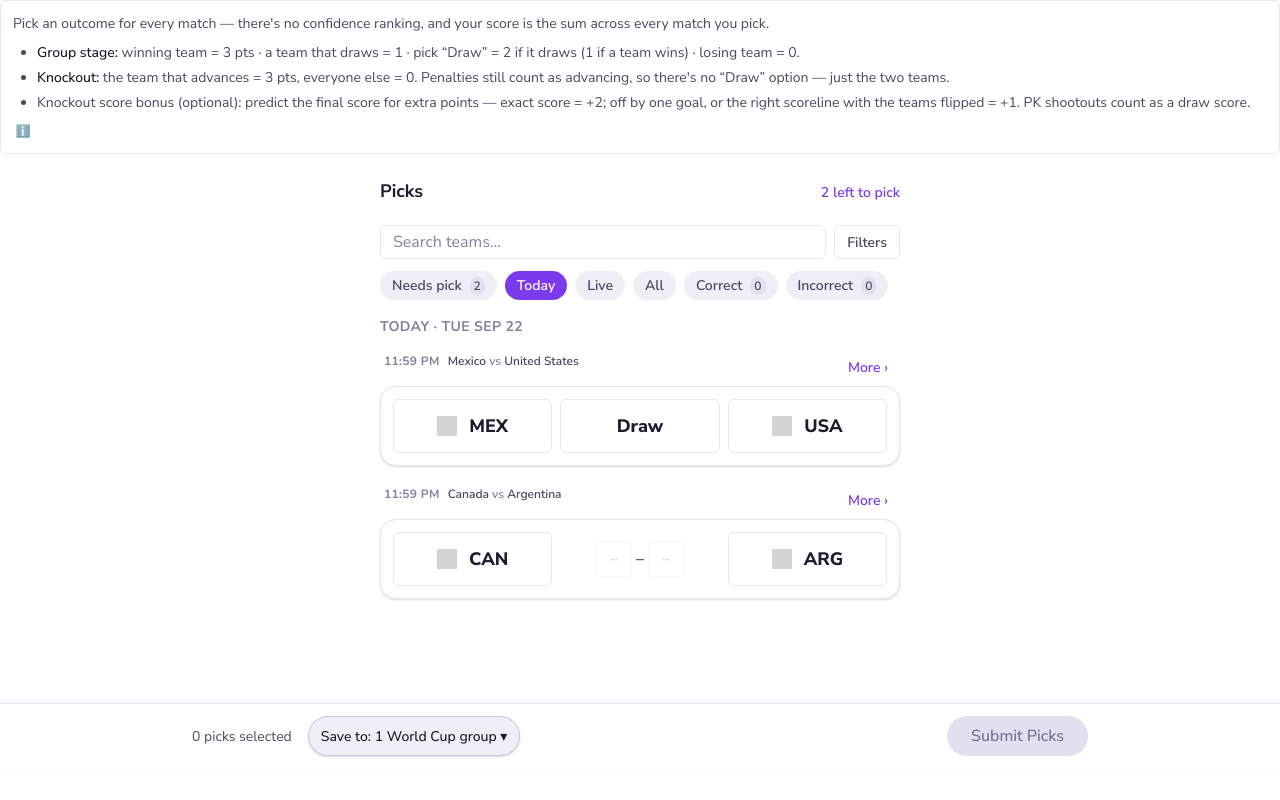
Test: WorldCupPicksTab › reports partial failure when some fan-out submits reject
The width and height of the screenshot is (1280, 800).
Expected: the element showing "Mexico vs United States" is shown, [448, 353, 579, 369]
Click the button "MEX" at (473, 426), box [393, 399, 552, 453]
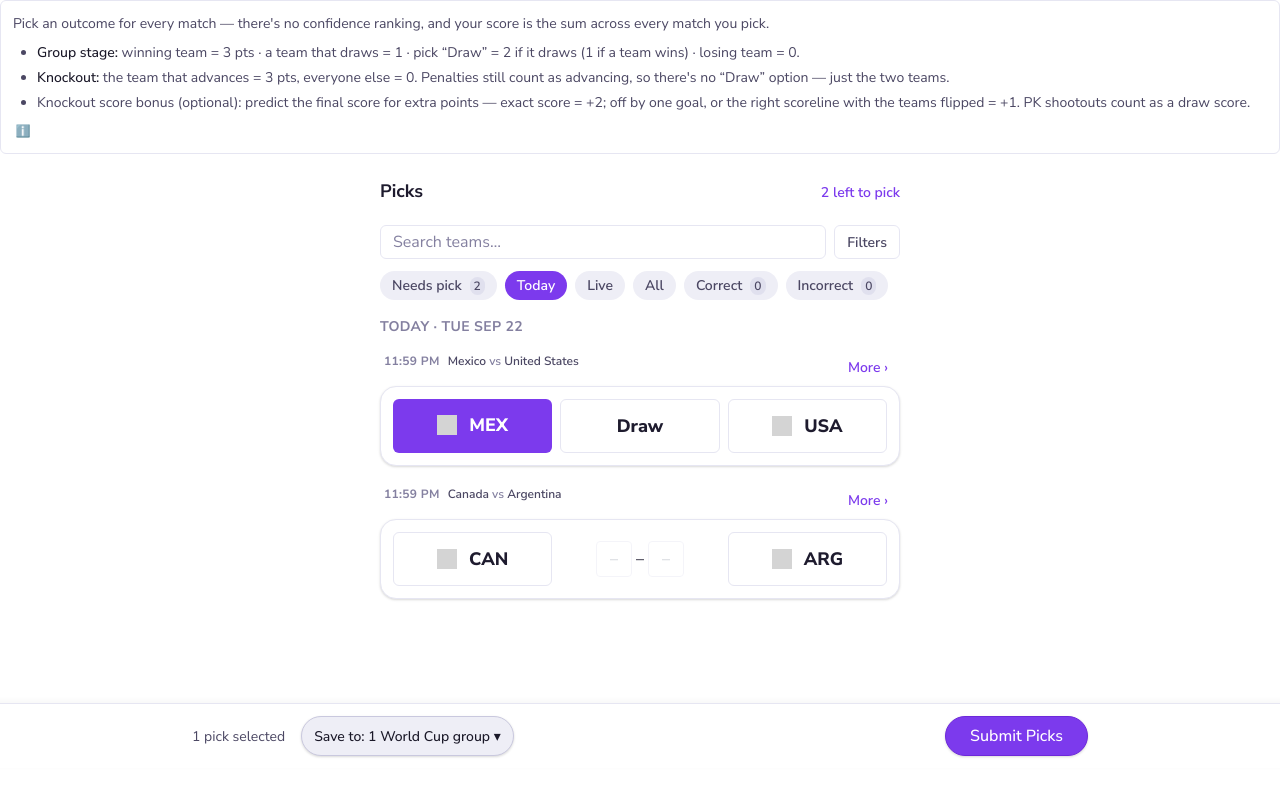
Click the button with aria-label "Choose groups to save picks to" at (407, 736), box [301, 716, 514, 756]
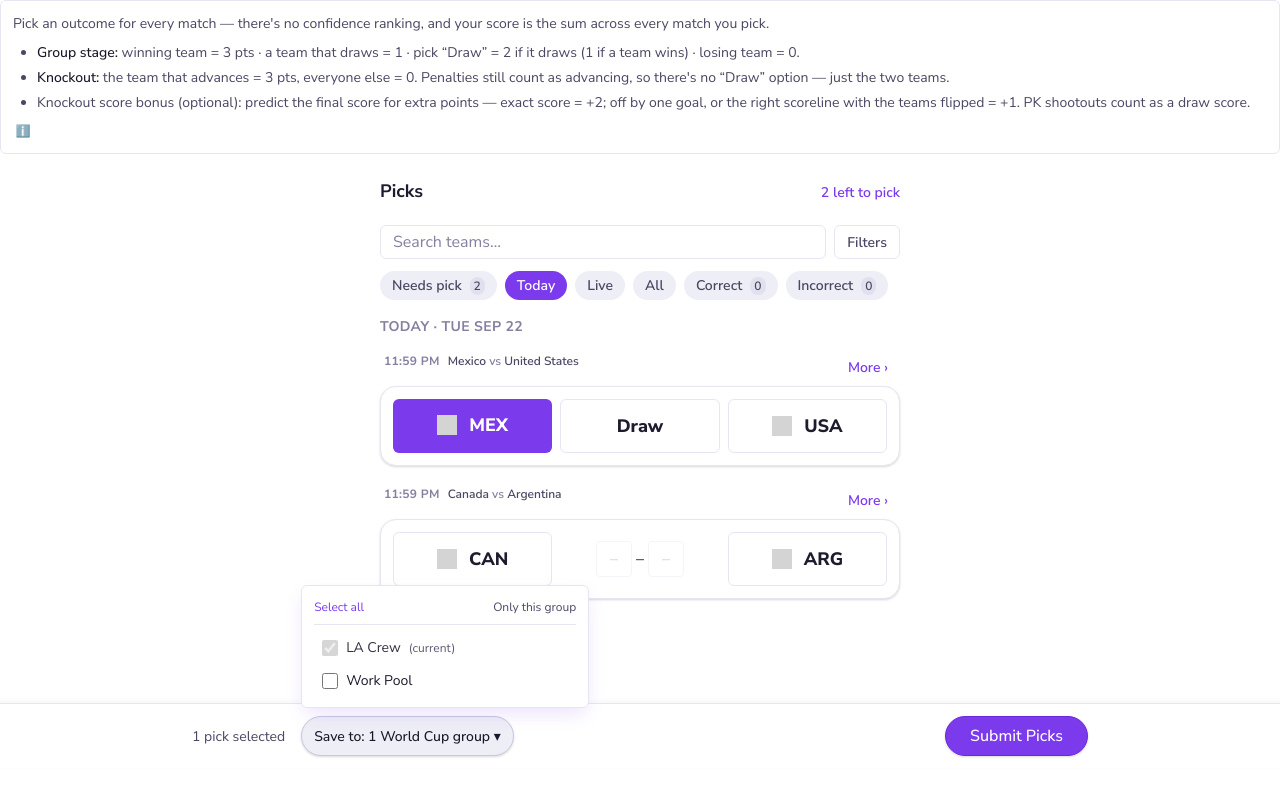
Click the checkbox labelled "Work Pool" at (330, 680), box [322, 672, 338, 688]
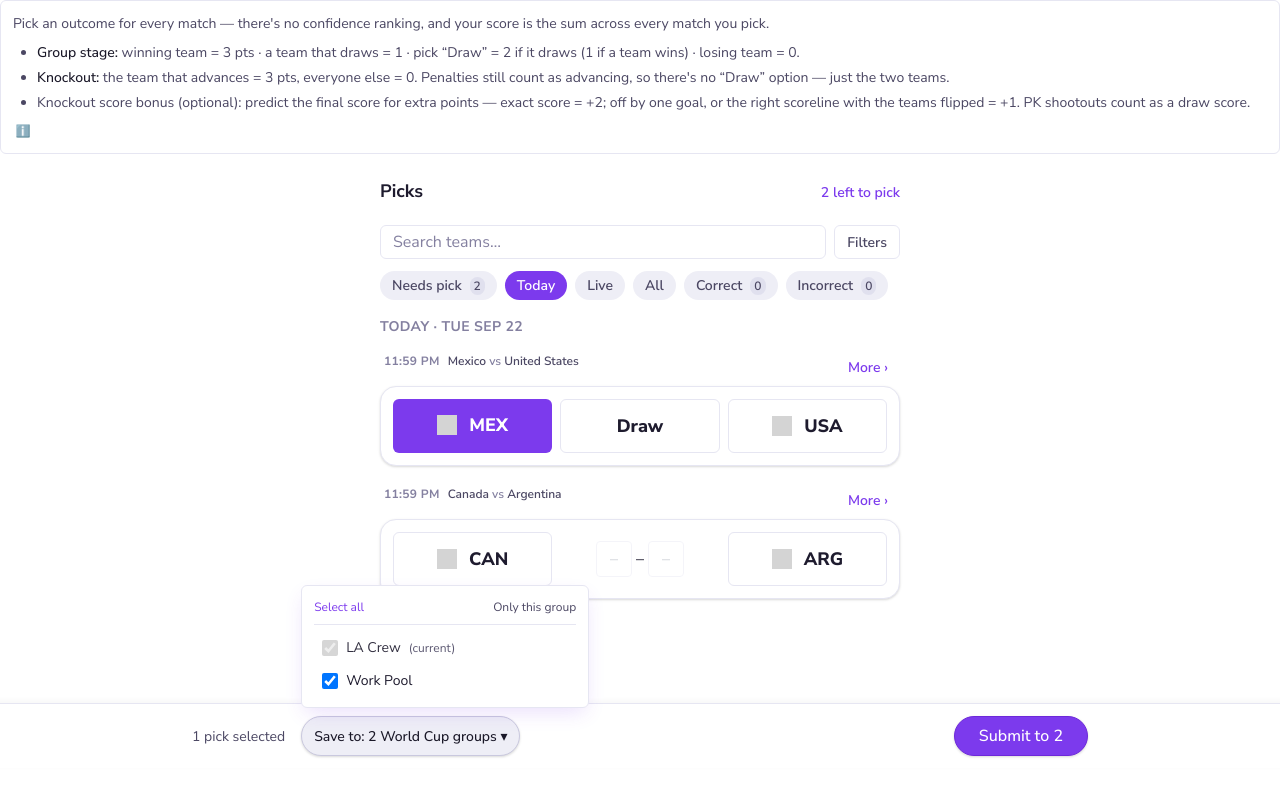
Click the button "Submit to 2" at (1021, 736), box [954, 716, 1088, 756]
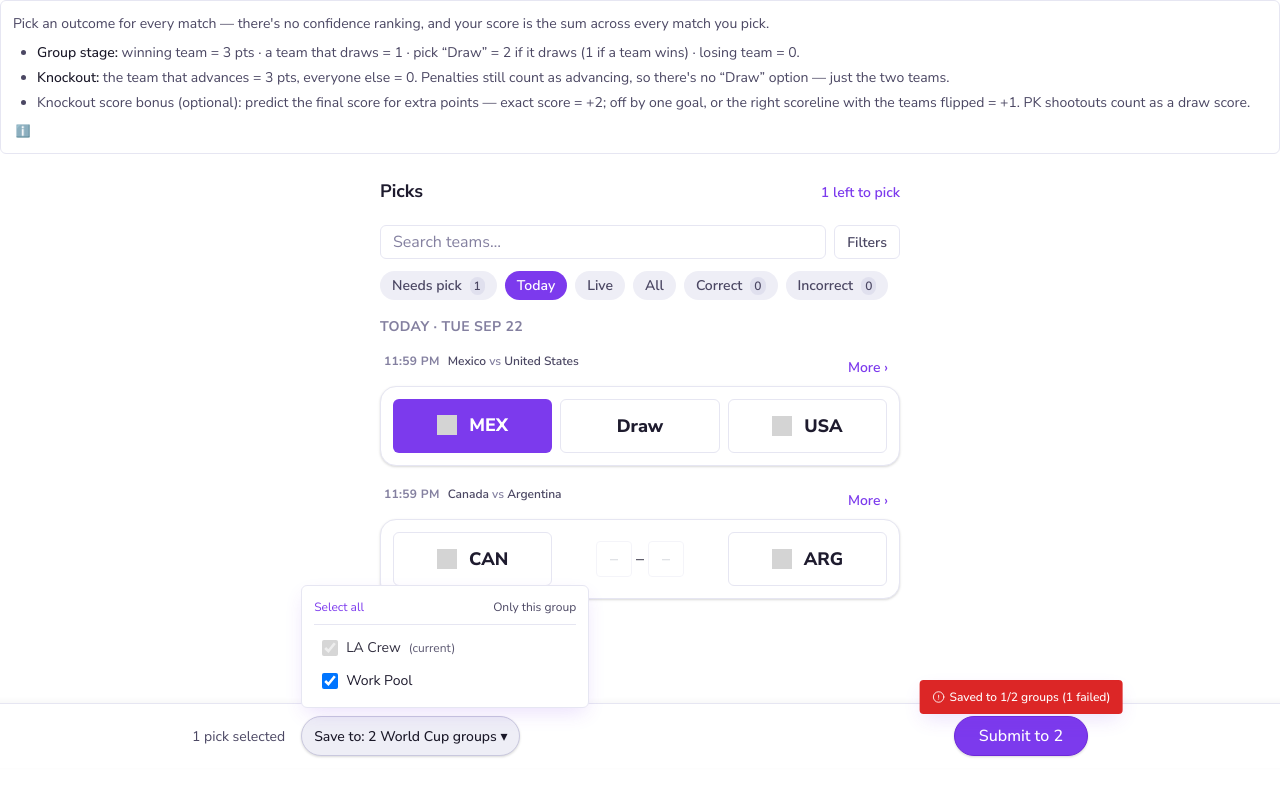
Expected: the text "Saved to 1/2 groups (1 failed)" is shown, [920, 680, 1122, 714]
